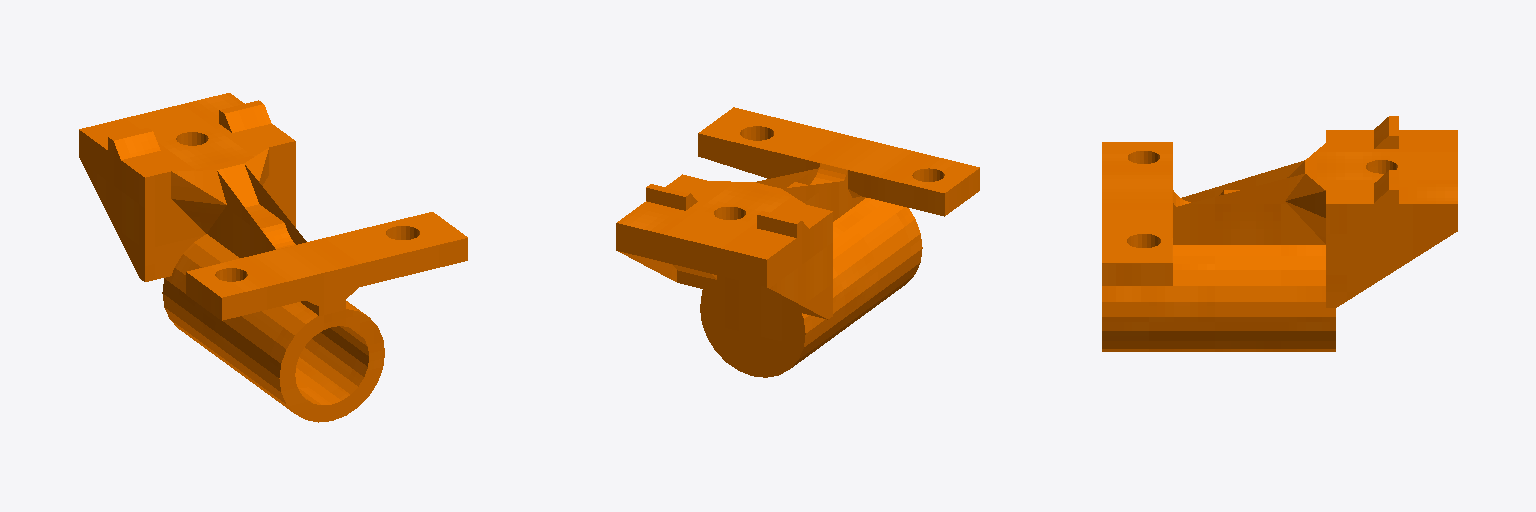
3 views of the same model, side by side, from view 1: azimuth 30°, elevation 25°; view 2: azimuth 150°, elevation 25°; view 3: azimuth 270°, elevation 25° (orthographic).
Parts seen in each view (by area): view 1: Mesh1 Model; view 2: Mesh1 Model; view 3: Mesh1 Model.
Part boxes in pixels (x1,y1,x2,y2): Mesh1 Model: (79, 93, 467, 422); Mesh1 Model: (616, 107, 979, 377); Mesh1 Model: (1102, 116, 1457, 351).
Size of the model in its own units: 28 by 21 by 35.
1 materials, 1 textured.